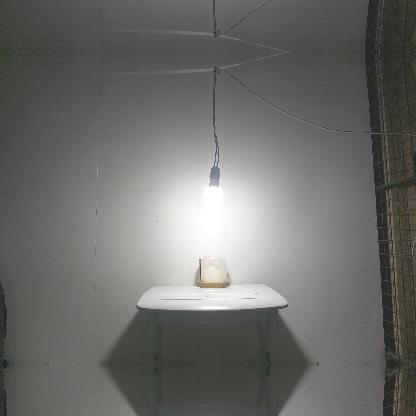Lady-s-Choice: (196, 256, 230, 290)
